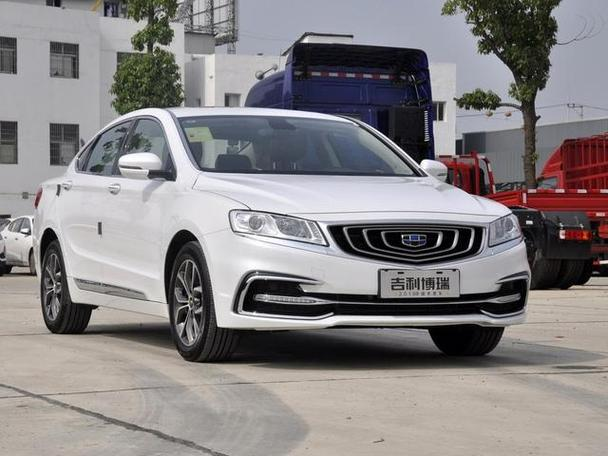汽车: (29, 104, 538, 365)
